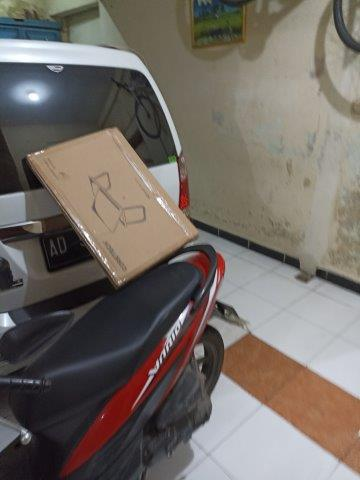kardus: (31, 129, 198, 286)
